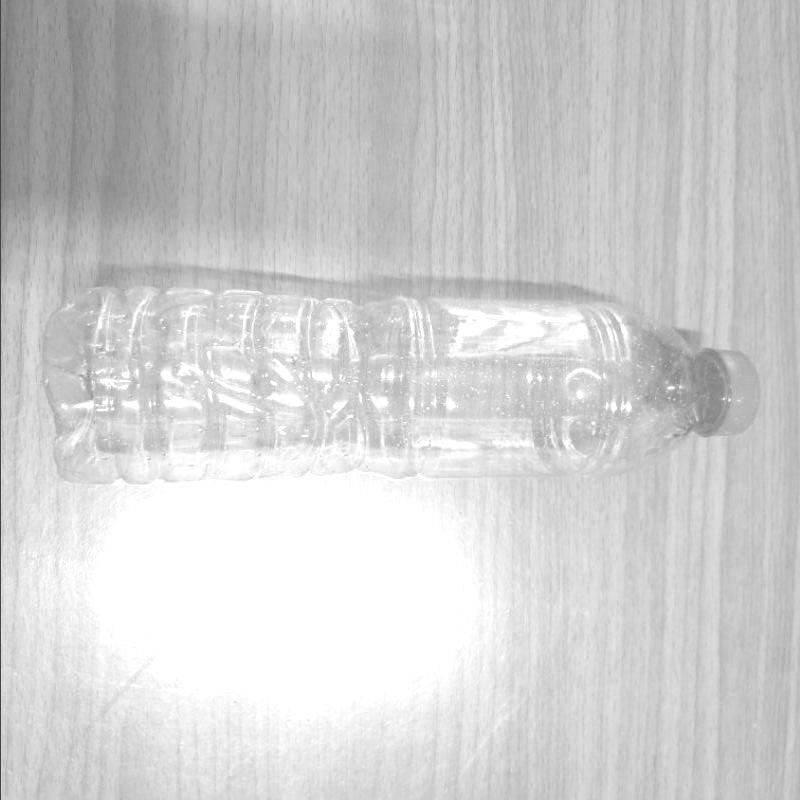bottle: (31, 258, 780, 503)
